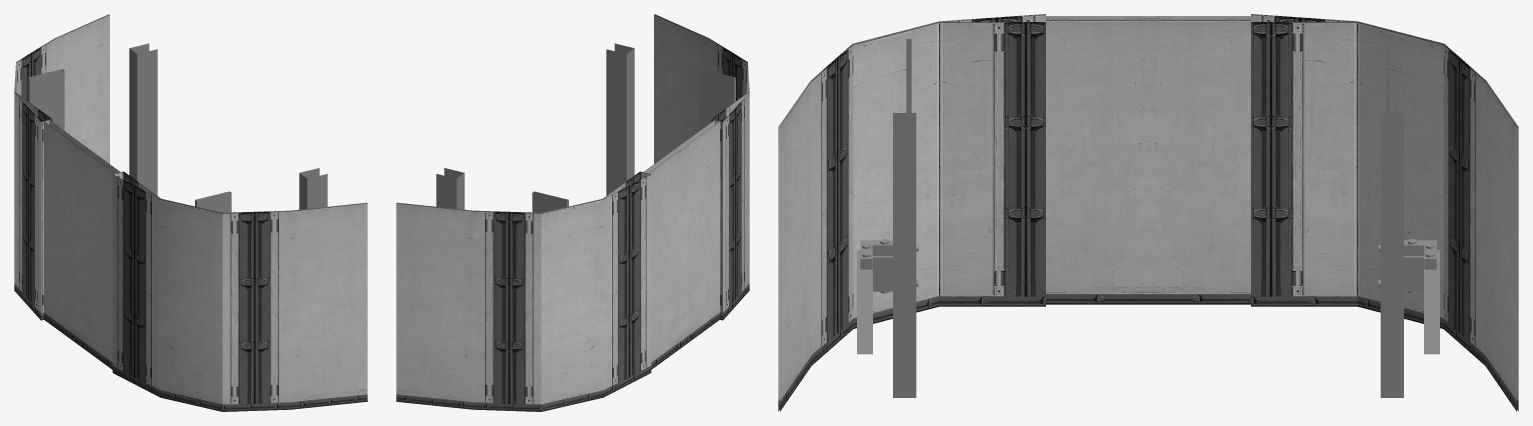
File: Pre_Elevator_entbackb.FBX
3 views of the same model, side by side, from view 1: azimuth 30°, elevation 25°; view 2: azimuth 150°, elevation 25°; view 3: azimuth 270°, elevation 25° (orthographic). The views are drawn at different scales.
Parts seen in each view (by area): view 1: Pre_Elevator_entbackb; view 2: Pre_Elevator_entbackb; view 3: Pre_Elevator_entbackb.
Boxes of the visible parts, box(x1,y1,x2,y2) form: Pre_Elevator_entbackb: box(14, 14, 367, 411); Pre_Elevator_entbackb: box(396, 14, 749, 411); Pre_Elevator_entbackb: box(778, 14, 1518, 411).
Size of the model in its own units: 3.41 by 4 by 9.43.
